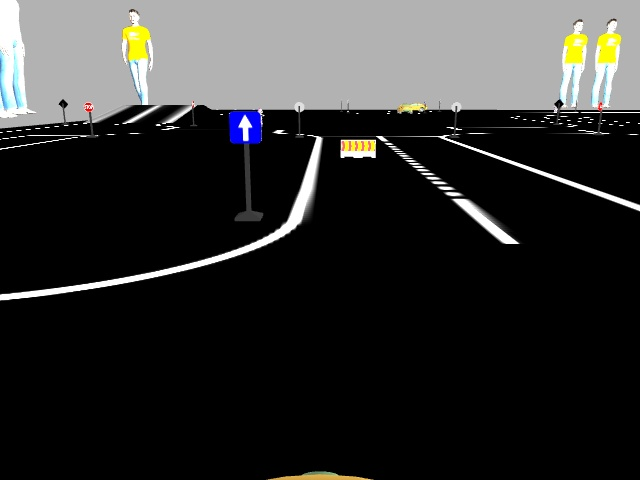ClosedRoadStand: (341, 139, 374, 156)
OneWay: (230, 113, 259, 142)
